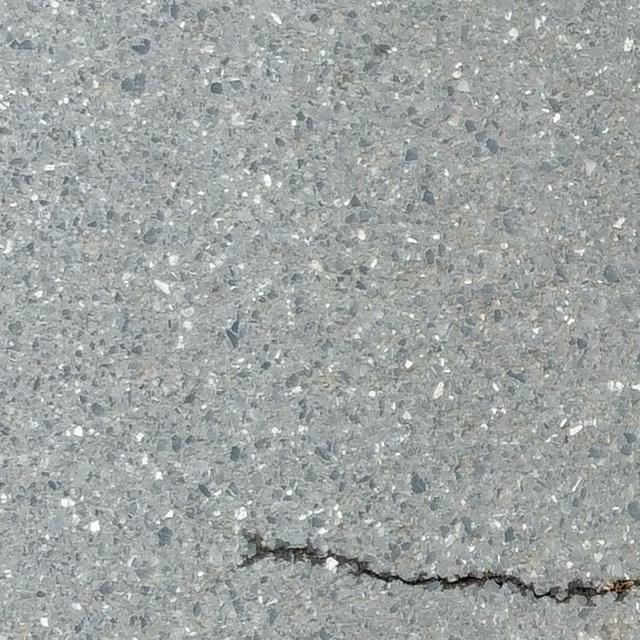TransverseCrack: (240, 533, 640, 607)
